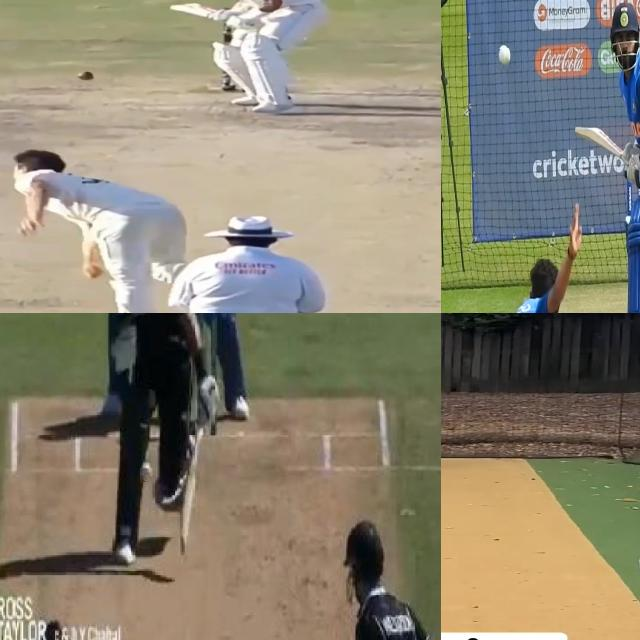Cricket ball: (496, 42, 511, 69), (140, 462, 153, 482), (75, 71, 96, 81)
